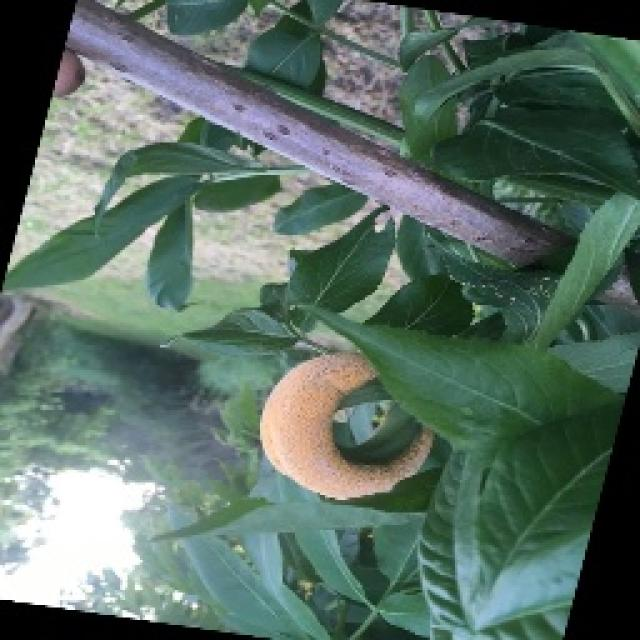Elderberry_rust: (232, 331, 442, 501)
